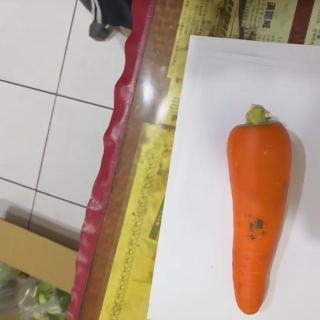carrot: (224, 105, 292, 319)
